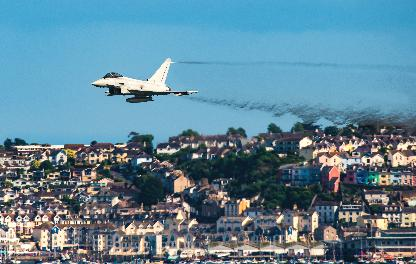E2: (90, 58, 198, 101)
